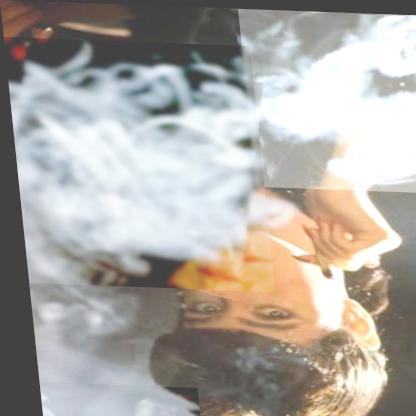smoke: (3, 37, 269, 290), (238, 7, 416, 190), (31, 382, 192, 416)
